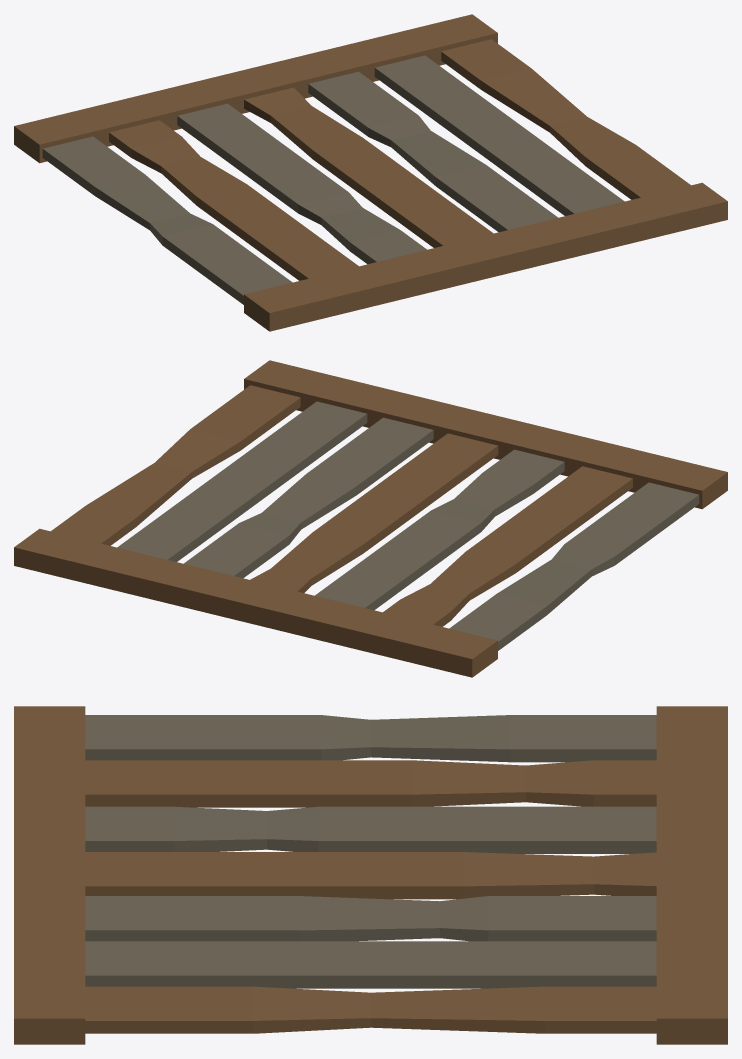
The model's file is Palet.fbx.
3 views of the same model, one above another, from view 1: azimuth 30°, elevation 25°; view 2: azimuth 150°, elevation 25°; view 3: azimuth 270°, elevation 25° (orthographic). The views are drawn at different scales.
Parts seen in each view (by area): view 1: Cube; view 2: Cube; view 3: Cube.
Boxes of the visible parts, box(x1,y1,x2,y2) form: Cube: box(14, 14, 727, 331); Cube: box(14, 360, 727, 677); Cube: box(14, 706, 727, 1044).
Size of the model in its own units: 207 by 8 by 200.
